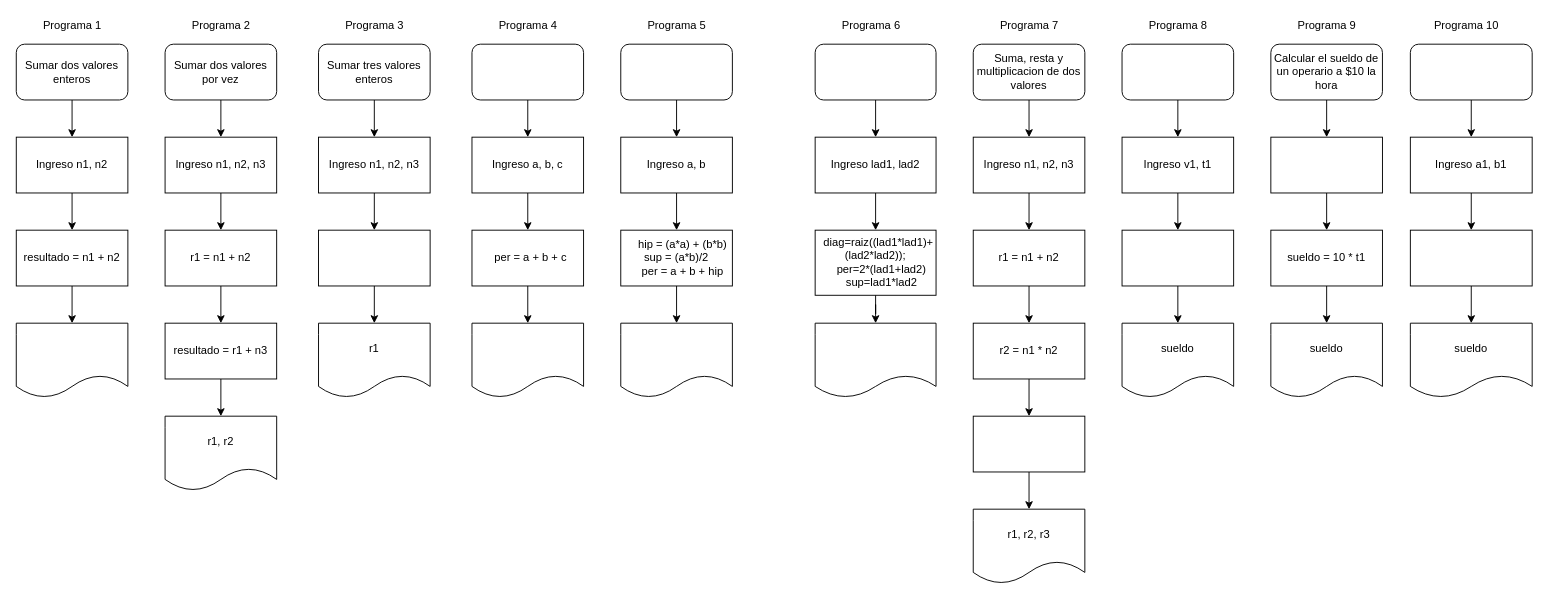
The diagram is 1548 pixels wide and 600 high, and some of its shapes have lost their labels. The shapes that lost their labels are listed below. From the top down, each one's centre as x and y in pixels, then its label:
At pixel 527 71: "Calcular el perimetro de un triangulo".
At pixel 676 71: "Calcular el hipotenusa, perimetro y superficie de un triangulo rectangulo".
At pixel 875 71: "Calcular la diagonal, perimetro y superficie de un rectangulo".
At pixel 1177 71: "Calcular el sueldo de un operario".
At pixel 1470 71: "Calcular sueldo del vendedor de una concesionaria".
At pixel 1326 164: "Ingreso t1".
At pixel 374 257: "r1 = n1 + n2 + n3".
At pixel 1177 257: "sueldo = v1 * t1".
At pixel 1470 257: "sueldo = (10*a1)/100 sueldo1 = sueldo+(b1*50) sueldo2 = sueldo1+500".
At pixel 71 360: "resultado".
At pixel 527 360: "per".
At pixel 676 360: "hip, sup, per".
At pixel 875 360: "diag, per, sup".
At pixel 1028 443: "r3 = r1 - r2".
